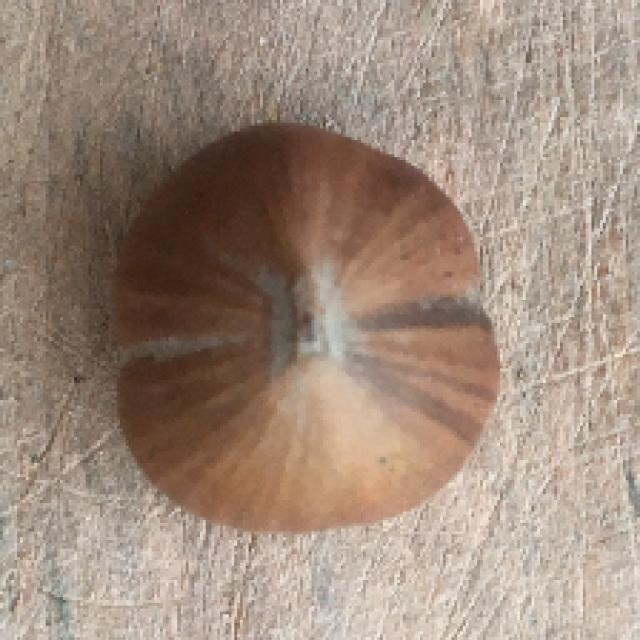qualityHazelnut: (123, 123, 491, 534)
